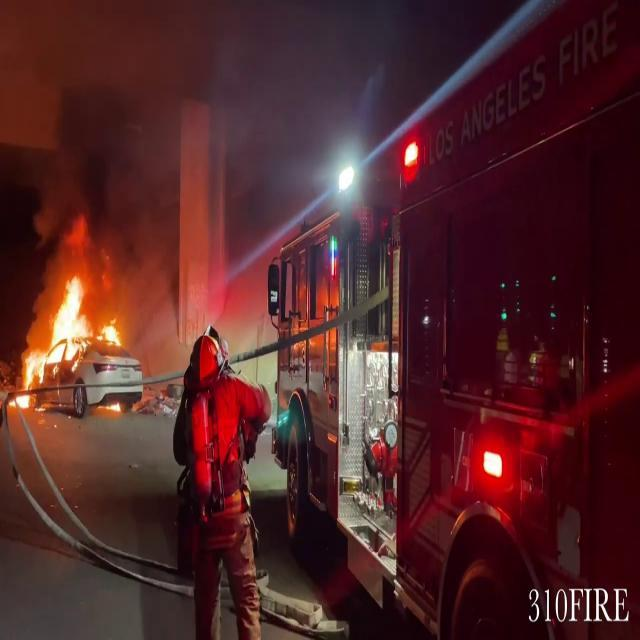Fire: (10, 268, 124, 402)
Smoke: (39, 57, 170, 255)
